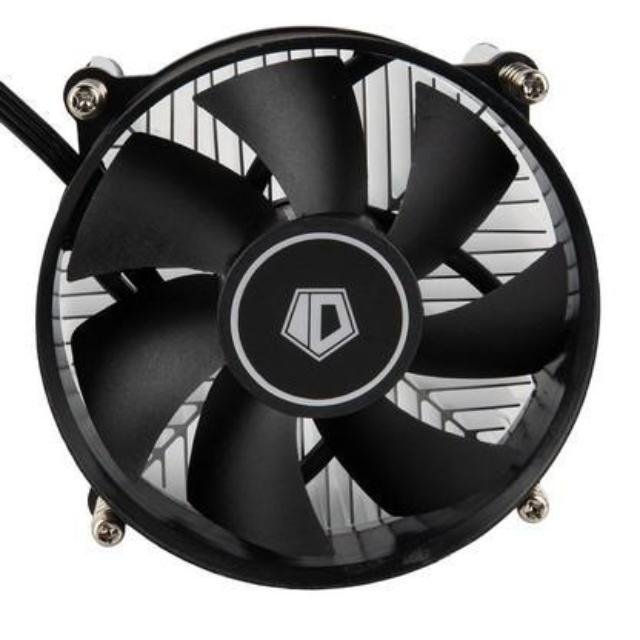CPU_Fan: (37, 28, 600, 592)
